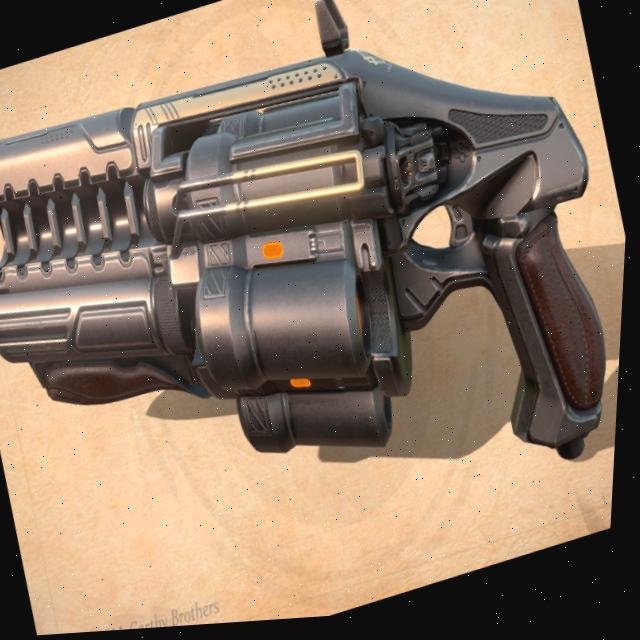firearm: (0, 0, 640, 632)
